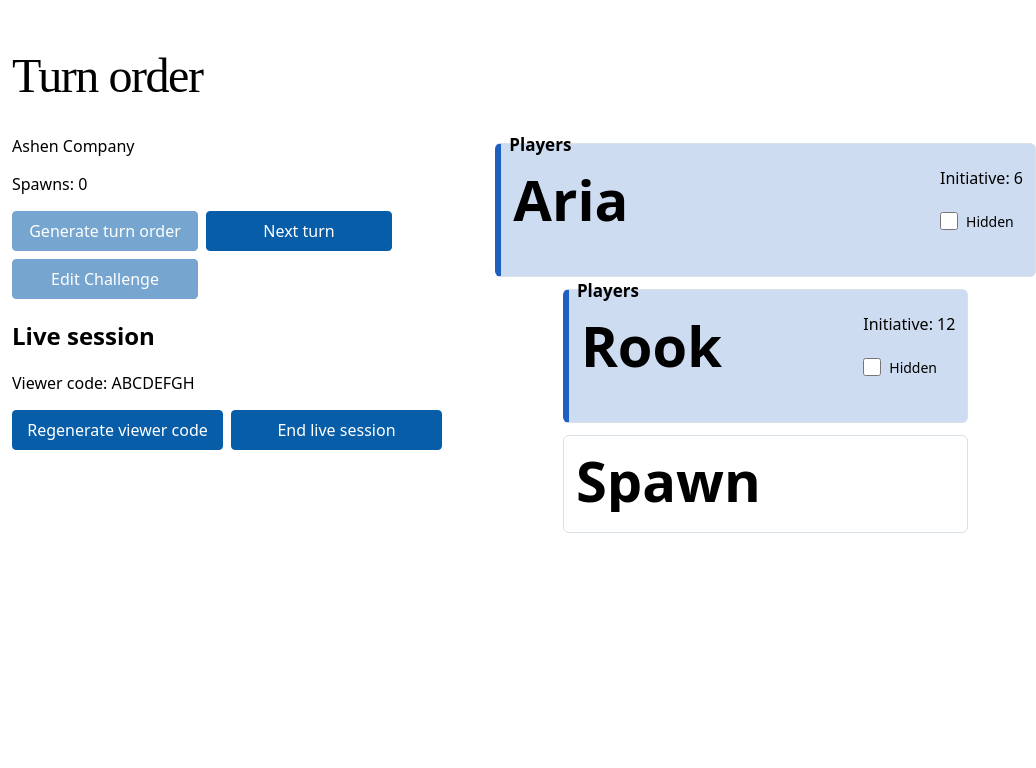
Scenario: turn-order run route › retains the live session and credential after a temporary end failure
Expected: the text "ABCDEFGH" is shown, x1=112 y1=372 x2=195 y2=394
Click the button "End live session" at (336, 430), box x1=231 y1=410 x2=442 y2=450
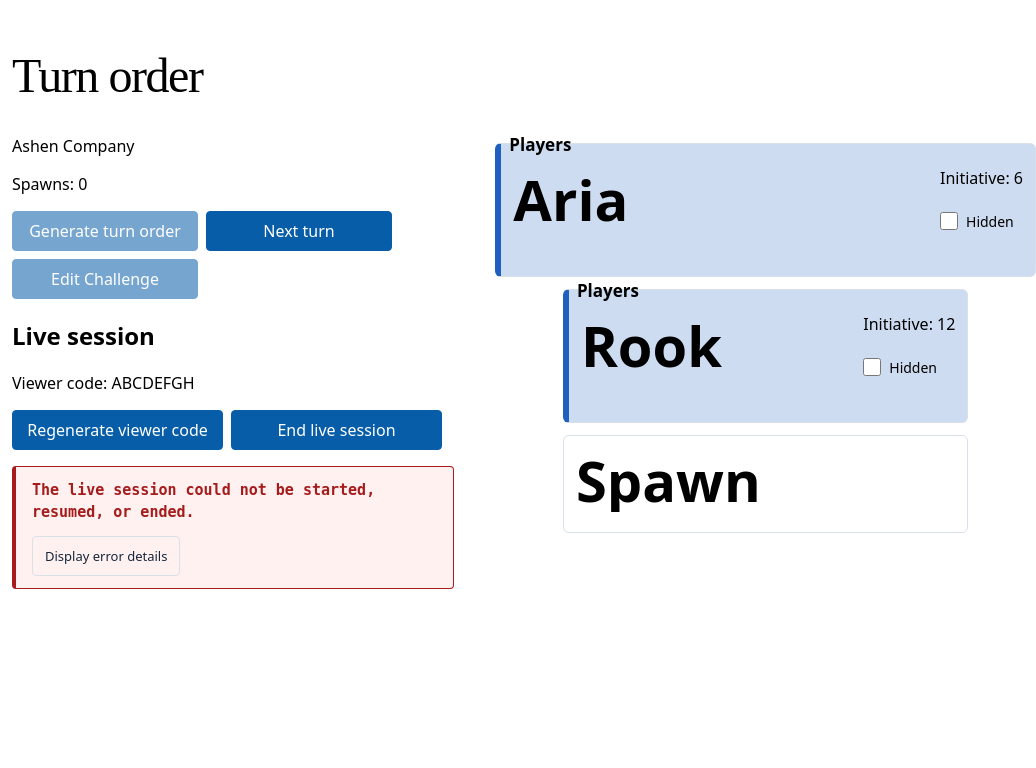
Expected: the text "ABCDEFGH" is shown, x1=112 y1=372 x2=195 y2=394
Expected: the message "The live session could not be started, resumed, or ended." is shown, x1=32 y1=481 x2=375 y2=521
